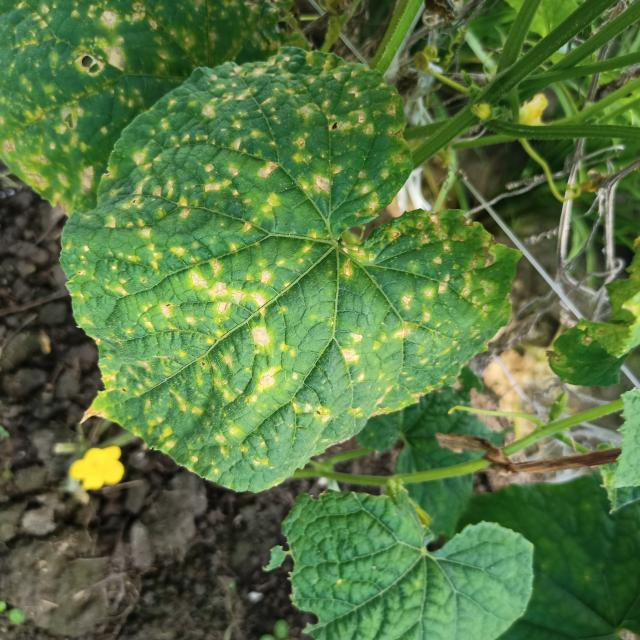disease_cucumber: (68, 46, 502, 470), (2, 1, 285, 206)
